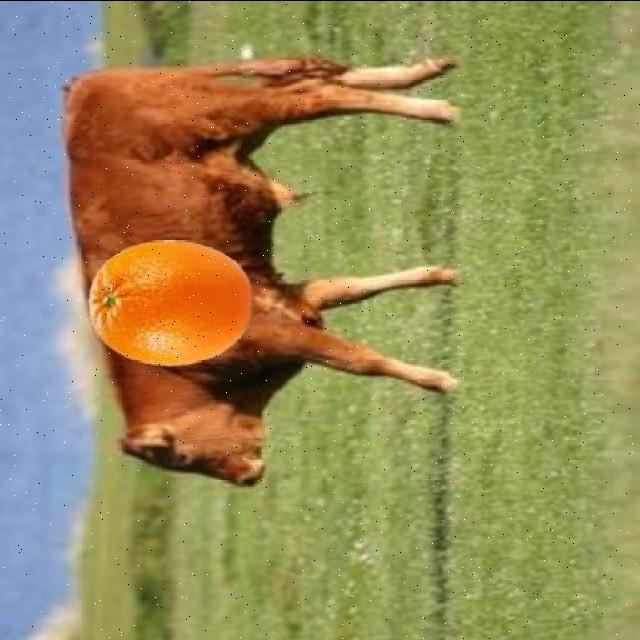Orange: (86, 238, 252, 368)
